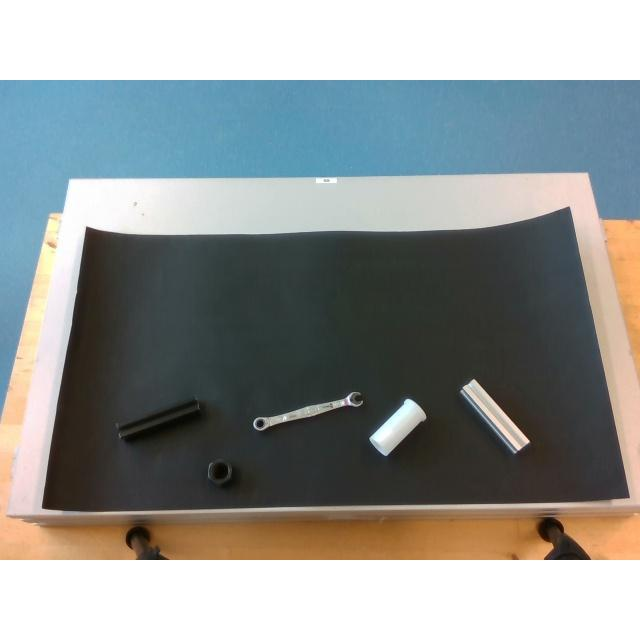F20_20_B: (116, 398, 200, 438)
F20_20_G: (459, 379, 528, 453)
M20: (208, 460, 232, 484)
Spacer: (370, 398, 426, 454)
Wrench: (253, 392, 363, 430)
